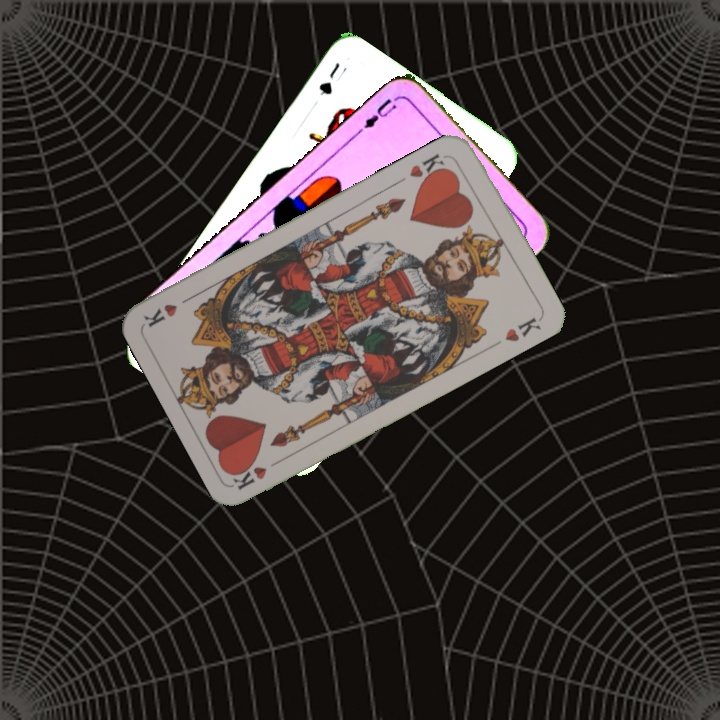EU: (354, 94, 399, 136)
GU: (314, 58, 350, 99)
HK: (228, 454, 287, 493), (405, 149, 452, 186)
